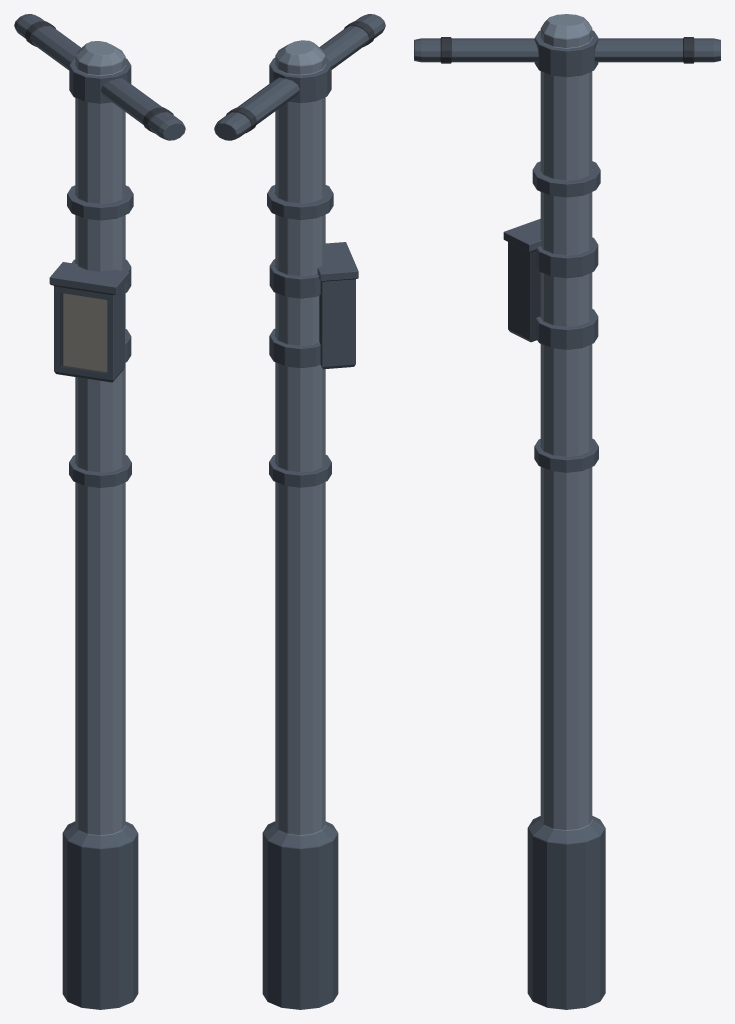
The model's file is 3D_Electric-Pole.fbx.
3 views of the same model, side by side, from view 1: azimuth 30°, elevation 25°; view 2: azimuth 150°, elevation 25°; view 3: azimuth 270°, elevation 25° (orthographic). The views are drawn at different scales.
Visible parts, largest first — view 1: 3D_Electric-Pole; view 2: 3D_Electric-Pole; view 3: 3D_Electric-Pole.
Part boxes in pixels (left/top/right/bottom): 3D_Electric-Pole: left=14, top=14, right=185, bottom=1009; 3D_Electric-Pole: left=214, top=14, right=385, bottom=1009; 3D_Electric-Pole: left=414, top=14, right=720, bottom=1009.
Bounding box in the file's own units: 82.96 × 861 × 246.
